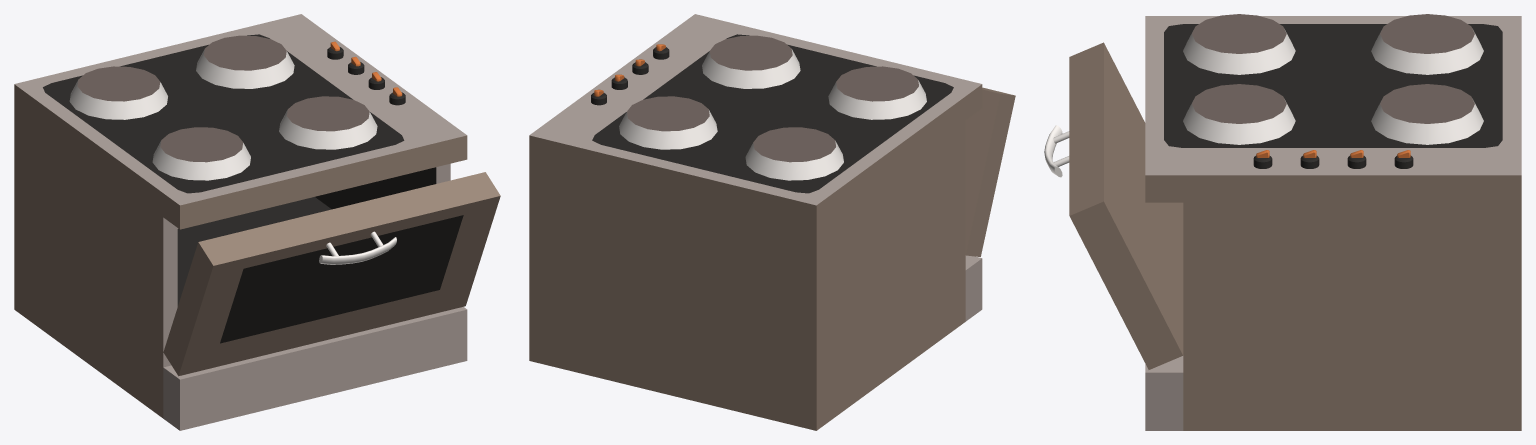
File: Oven.fbx
3 views of the same model, side by side, from view 1: azimuth 30°, elevation 25°; view 2: azimuth 150°, elevation 25°; view 3: azimuth 270°, elevation 25° (orthographic). The views are drawn at different scales.
Visible parts, largest first — view 1: Oven; view 2: Oven; view 3: Oven.
Boxes of the visible parts, left/top/right/bottom form: Oven: left=14, top=14, right=500, bottom=430; Oven: left=529, top=14, right=1015, bottom=430; Oven: left=1044, top=14, right=1521, bottom=430.
Bounding box in the file's own units: 78.74 × 99.85 × 62.99.
